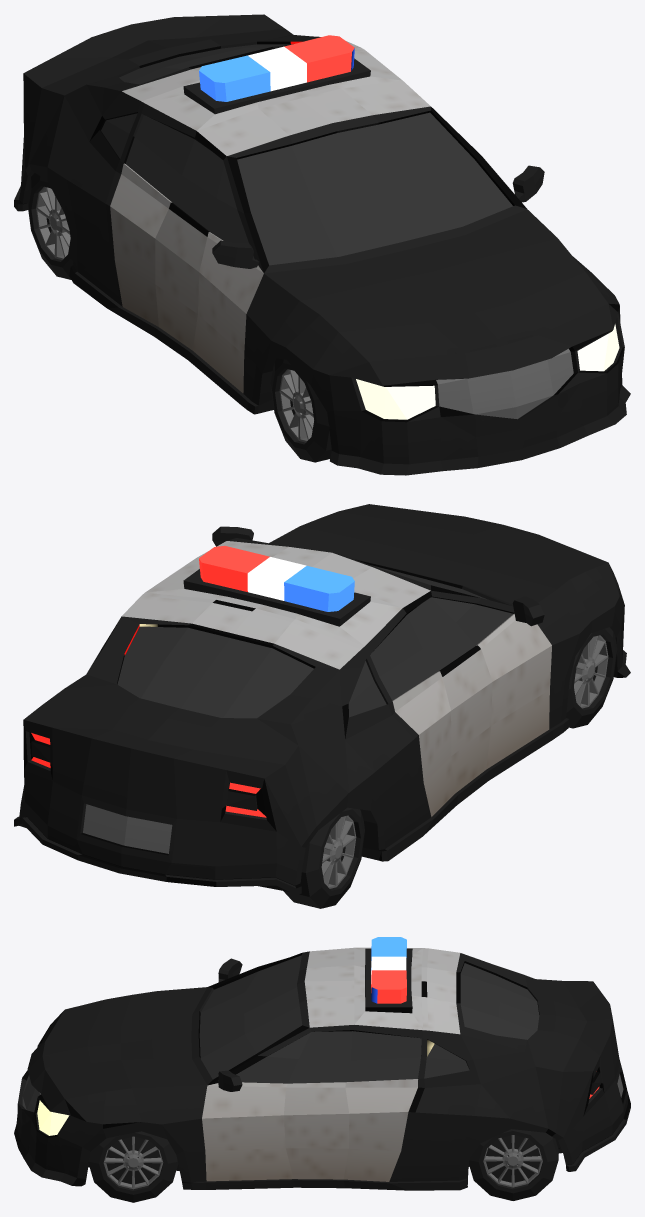
Rendered from citypack-police-L3.glb.
The picture shows the model from 3 angles, top to bottom: view 1: azimuth 30°, elevation 25°; view 2: azimuth 150°, elevation 25°; view 3: azimuth 270°, elevation 25°; orthographic projection. The views are drawn at different scales.
Visible parts, largest first — view 1: body, wheel-front-left, wheel-front-left.1, wheel-back-left.1, wheel-back-left; view 2: body, wheel-back-left, wheel-front-left, wheel-front-left.1, wheel-back-left.1; view 3: body, wheel-back-right, wheel-front-right, wheel-back-right.1, wheel-front-right.1.
Boxes of the visible parts, x1,y1,x2,y2 form: body: (14,14,630,475); wheel-front-left: (270,358,331,462); wheel-front-left.1: (279,369,313,442); wheel-back-left.1: (36,186,70,259); wheel-back-left: (27,173,73,279); body: (14,504,630,895); wheel-back-left: (283,807,364,908); wheel-front-left: (566,627,617,728); wheel-front-left.1: (574,635,608,708); wheel-back-left.1: (321,815,356,888); body: (14,937,630,1190); wheel-back-right: (469,1129,558,1200); wheel-front-right: (88,1131,178,1202); wheel-back-right.1: (483,1135,542,1187); wheel-front-right.1: (103,1136,163,1189).
Size of the model in its own units: 1.78 by 1.24 by 3.73.
Materials: 3 (1 with a texture image).
